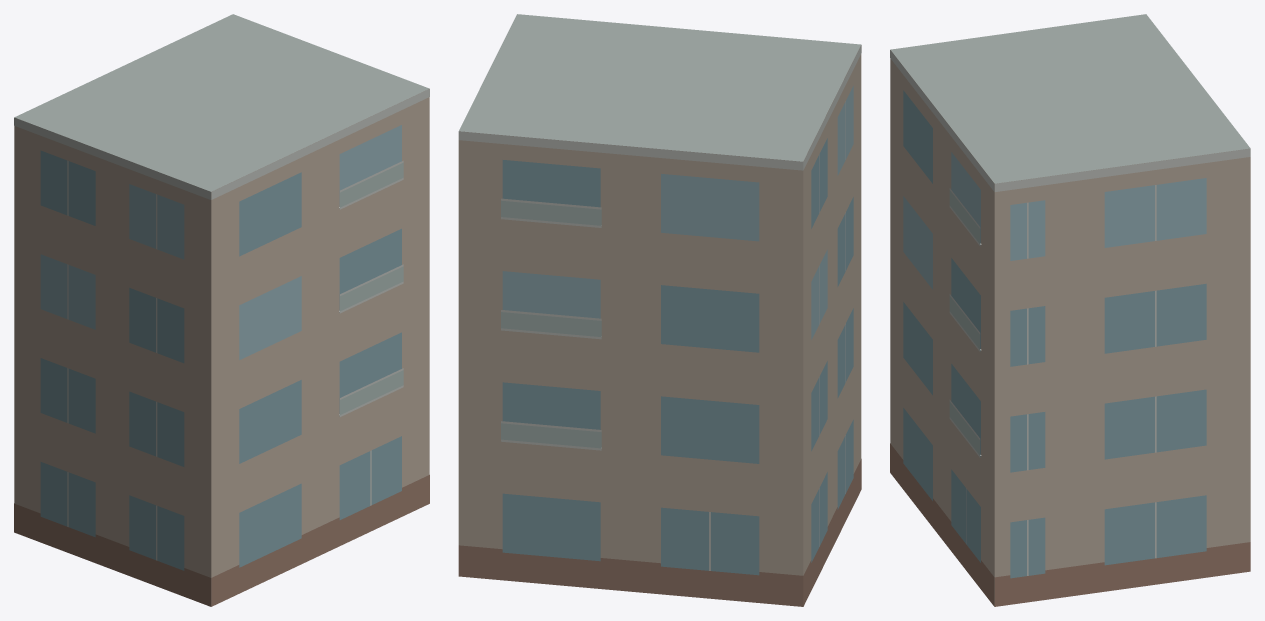
File: residential-97a264a2-bed4-48ad-8066-a7c1d67e55e5.glb
3 views of the same model, side by side, from view 1: azimuth 30°, elevation 25°; view 2: azimuth 150°, elevation 25°; view 3: azimuth 270°, elevation 25° (orthographic). The views are drawn at different scales.
Parts seen in each view (by area): view 1: residential-97a264a2-bed4-48ad-8066-a7c1d67e55e5.tmp; view 2: residential-97a264a2-bed4-48ad-8066-a7c1d67e55e5.tmp; view 3: residential-97a264a2-bed4-48ad-8066-a7c1d67e55e5.tmp.
Part boxes in pixels (bbox=[...]): residential-97a264a2-bed4-48ad-8066-a7c1d67e55e5.tmp: bbox=[14, 14, 429, 606]; residential-97a264a2-bed4-48ad-8066-a7c1d67e55e5.tmp: bbox=[458, 14, 861, 606]; residential-97a264a2-bed4-48ad-8066-a7c1d67e55e5.tmp: bbox=[890, 14, 1250, 606].
Size of the model in its own units: 10.51 by 12.2 by 9.43.
